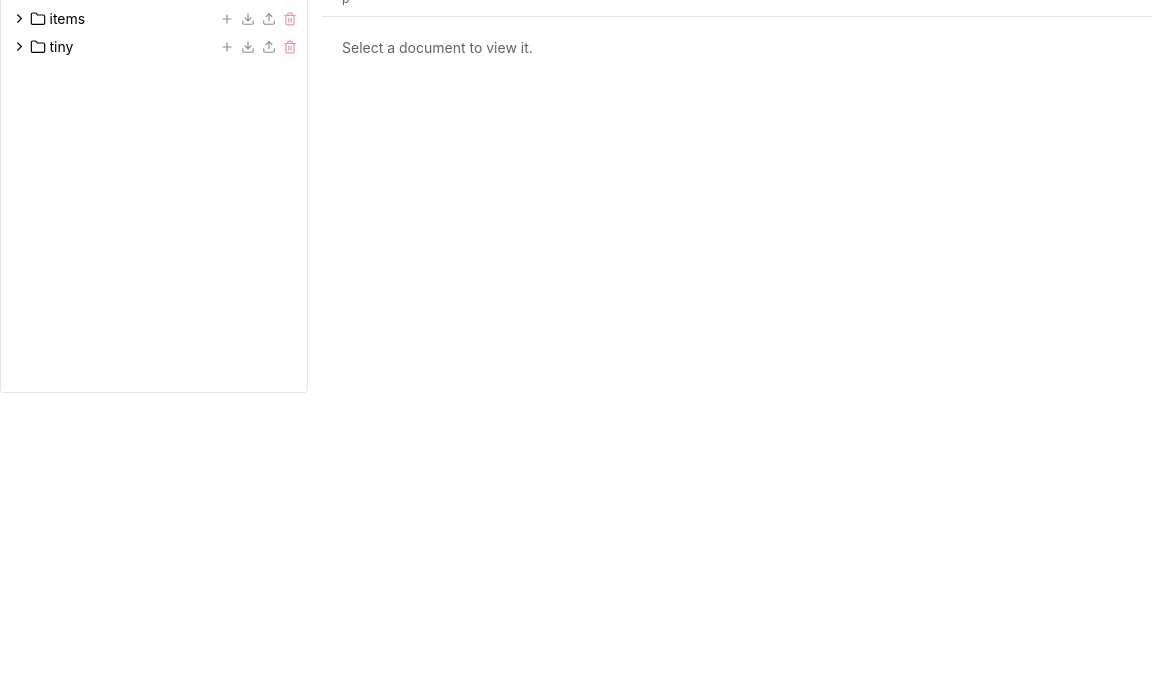
Test: FirestoreBrowser › shows a clear message when selecting a missing document
Click the button with test id "collection:items".
click(112, 18)  # box top-left (8, 4), bottom-right (216, 32)
(page scrolled)
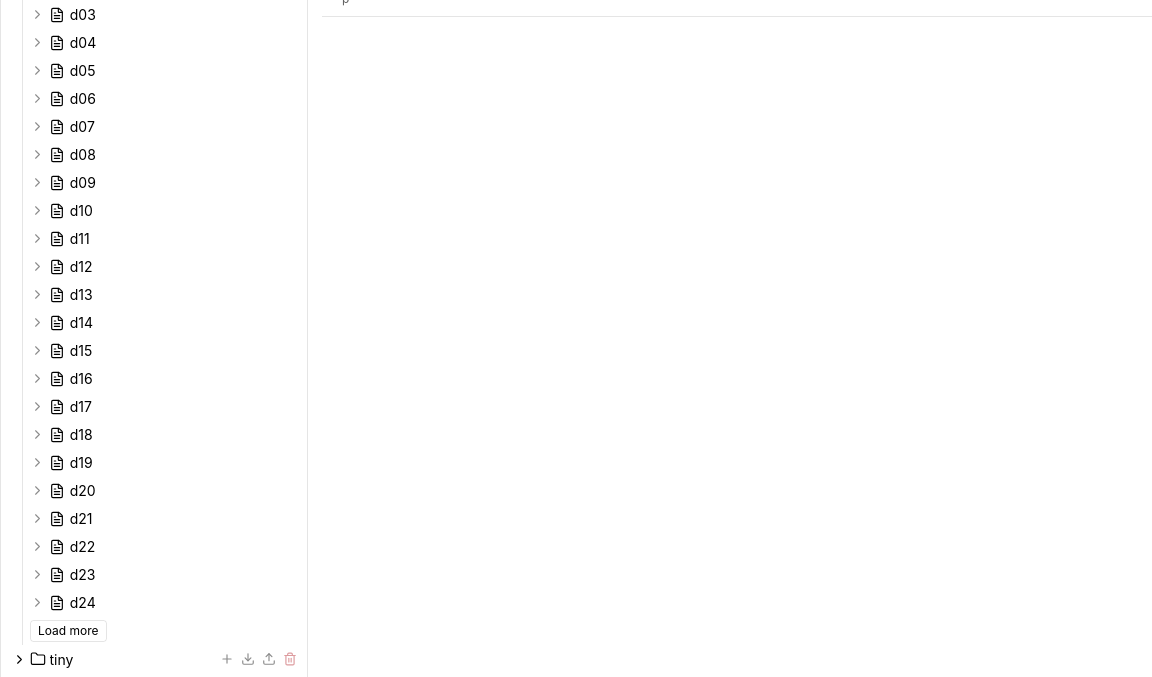
Click the button with test id "load-more:items".
click(68, 631)  # box top-left (30, 620), bottom-right (107, 642)
(page scrolled)
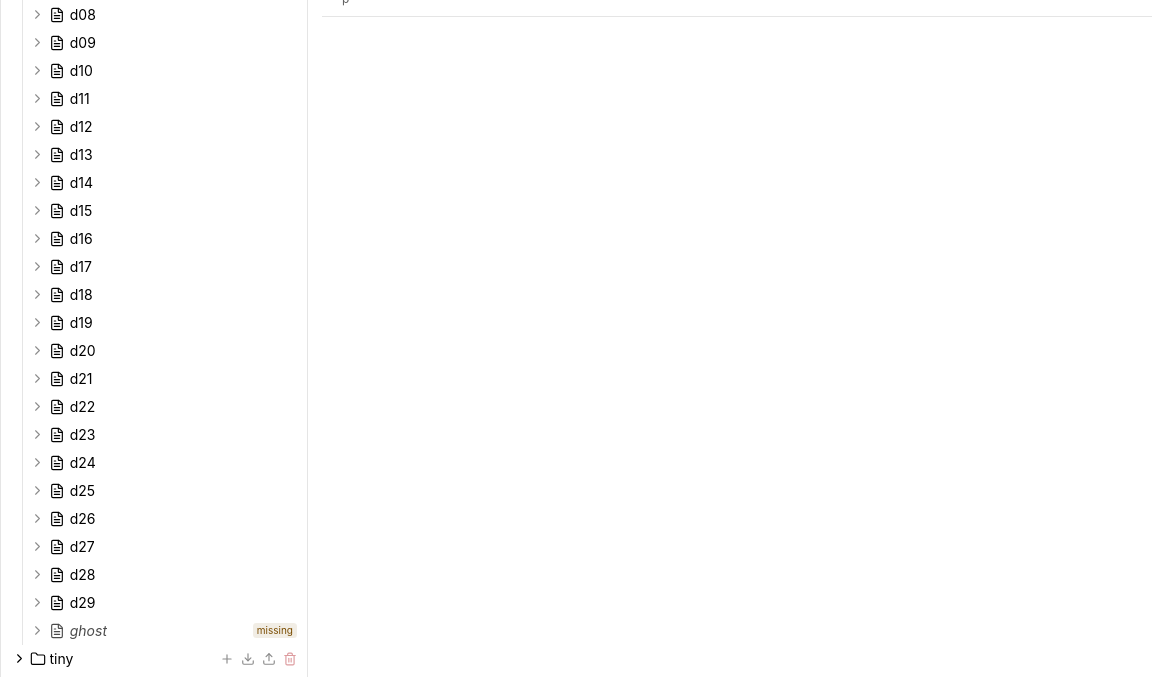
Click the button with test id "doc:items/ghost".
click(151, 630)  # box top-left (48, 616), bottom-right (253, 644)
(page scrolled)
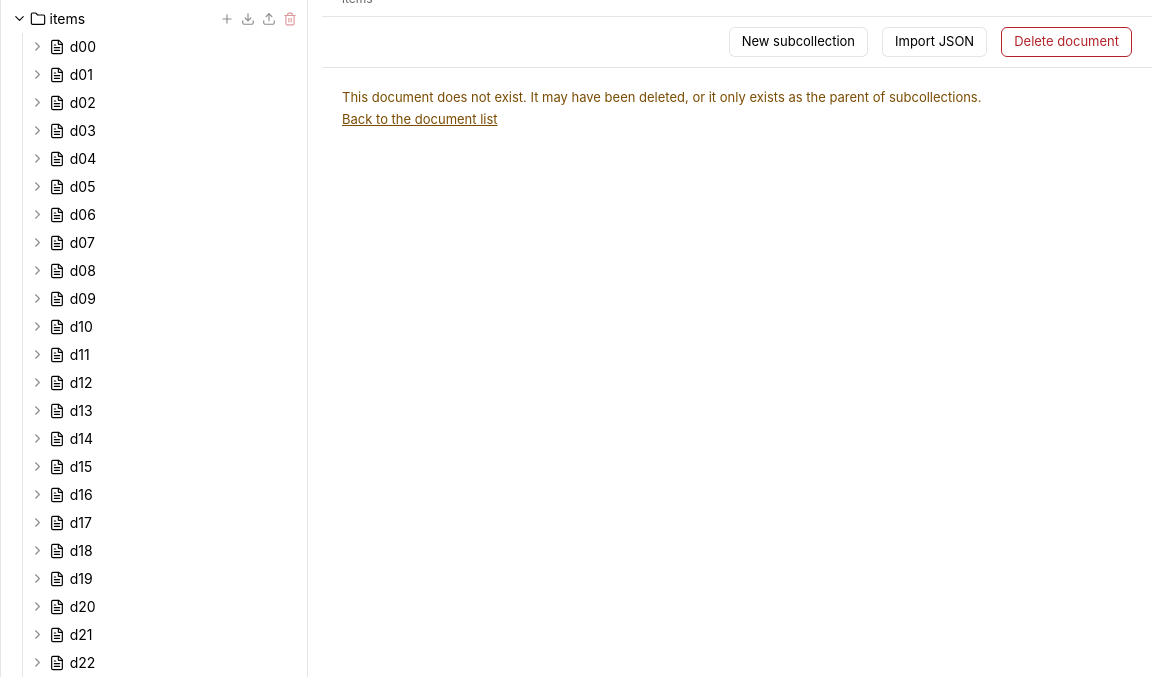
Expected: the message with test id "document-missing" is shown, top-left (342, 88), bottom-right (982, 128)
